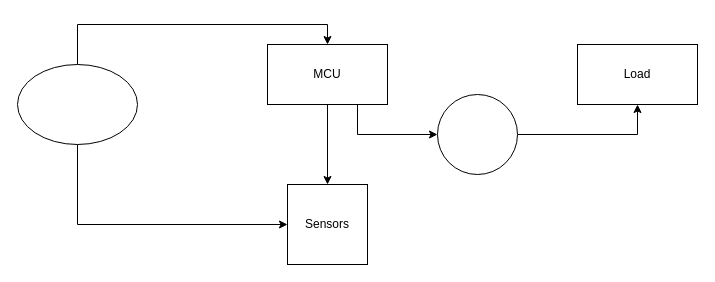
The diagram is 715 pixels wide and 282 high, and some of its shapes have lost their labels. Here are the shapes that lost their labels. From the top down, the box of each, then its label:
(16, 64, 138, 144): Power supply
(436, 94, 518, 174): Ammeter
